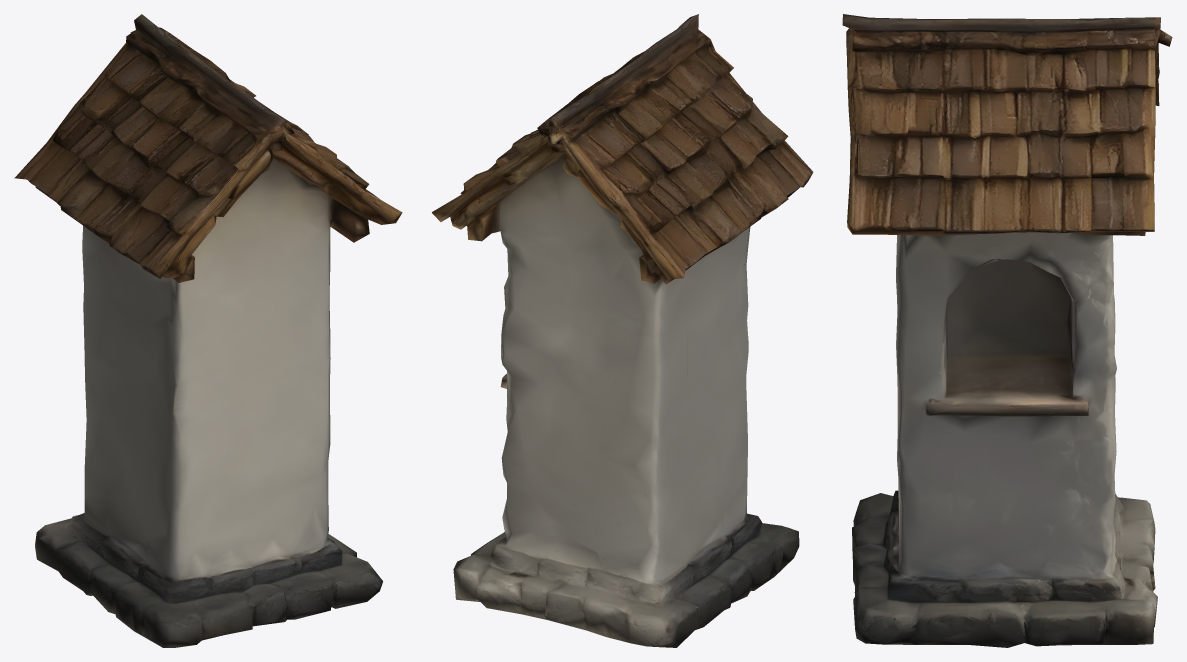
The model's file is shrine_tripo.glb.
The picture shows the model from 3 angles, left to right: view 1: azimuth 30°, elevation 25°; view 2: azimuth 150°, elevation 25°; view 3: azimuth 270°, elevation 25°; orthographic projection. The views are drawn at different scales.
Parts seen in each view (by area): view 1: tripo_node_b39d8988-95d7-42a1-a9cf-c794dae63859; view 2: tripo_node_b39d8988-95d7-42a1-a9cf-c794dae63859; view 3: tripo_node_b39d8988-95d7-42a1-a9cf-c794dae63859.
Part boxes in pixels (left/top/right/bottom): tripo_node_b39d8988-95d7-42a1-a9cf-c794dae63859: left=14, top=14, right=402, bottom=647; tripo_node_b39d8988-95d7-42a1-a9cf-c794dae63859: left=432, top=14, right=813, bottom=647; tripo_node_b39d8988-95d7-42a1-a9cf-c794dae63859: left=842, top=14, right=1172, bottom=647.
Size of the model in its own units: 0.5203 by 1 by 0.5209.
1 material, 1 textured.
